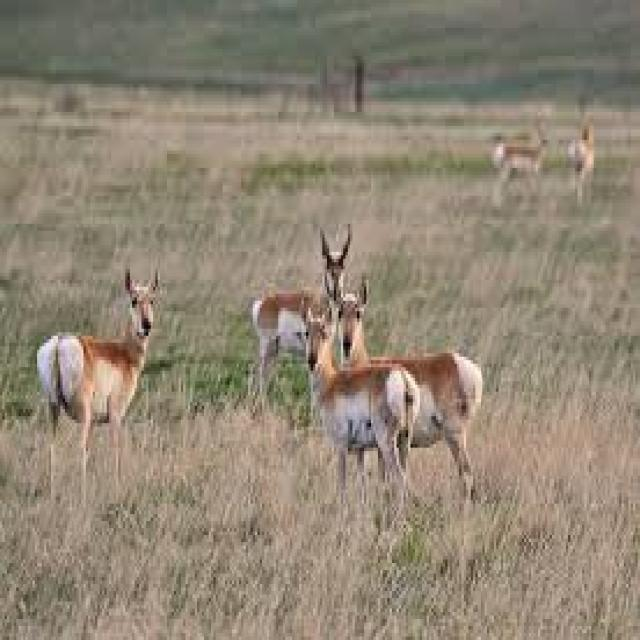Antelope: (328, 269, 491, 506), (28, 261, 162, 504), (298, 282, 421, 527), (244, 220, 353, 408)
